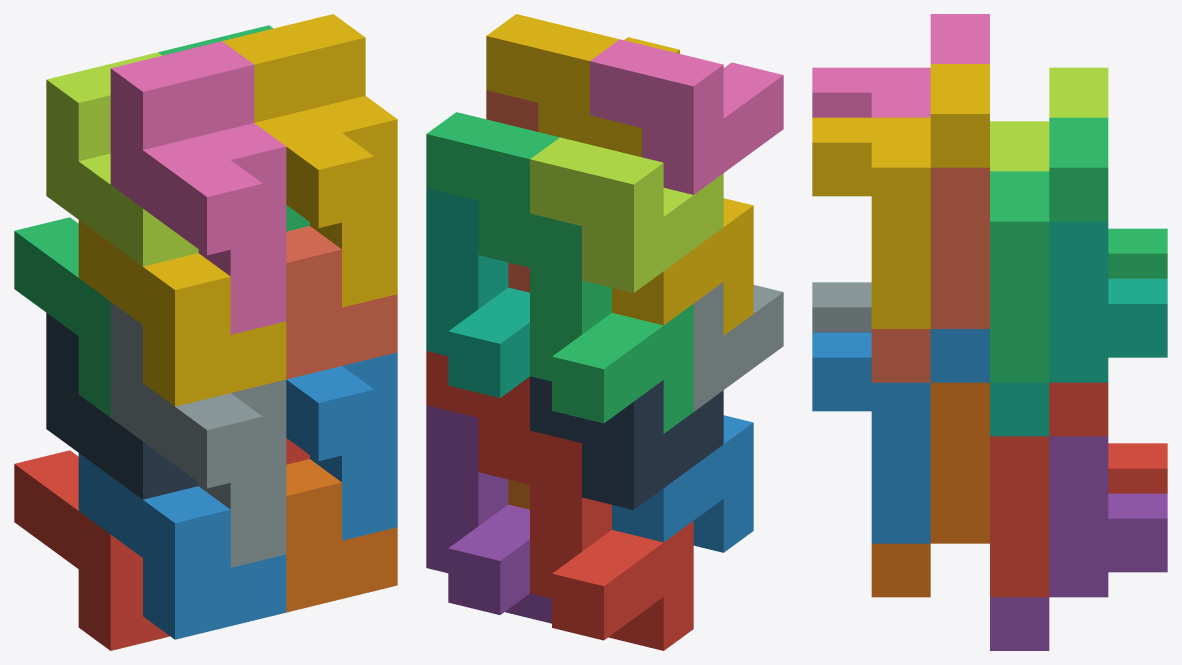
File: tiling.obj
3 views of the same model, side by side, from view 1: azimuth 30°, elevation 25°; view 2: azimuth 150°, elevation 25°; view 3: azimuth 270°, elevation 25° (orthographic). The views are drawn at different scales.
Visible parts, largest first — view 1: copy_2_domain_4, copy_2_domain_8, copy_2_domain_2, copy_1_domain_4, copy_1_domain_2, copy_2_domain_6, copy_2_domain_3, copy_1_domain_1, copy_1_domain_6, copy_1_domain_8, copy_1_domain_3, copy_2_domain_1 (+1 smaller); view 2: copy_1_domain_1, copy_1_domain_3, copy_2_domain_4, copy_2_domain_3, copy_1_domain_5, copy_1_domain_7, copy_2_domain_1, copy_2_domain_7, copy_2_domain_8, copy_1_domain_4, copy_1_domain_2, copy_2_domain_2 (+3 smaller); view 3: copy_2_domain_8, copy_2_domain_7, copy_1_domain_7, copy_2_domain_6, copy_1_domain_5, copy_1_domain_6, copy_2_domain_5, copy_1_domain_8, copy_2_domain_4, copy_2_domain_3, copy_1_domain_1, copy_1_domain_3 (+1 smaller).
Part boxes in pixels (bbox=[...]): copy_2_domain_4: bbox=[110, 41, 286, 334]; copy_2_domain_8: bbox=[222, 14, 397, 307]; copy_2_domain_2: bbox=[110, 301, 286, 567]; copy_1_domain_4: bbox=[78, 220, 286, 406]; copy_1_domain_2: bbox=[78, 453, 286, 639]; copy_2_domain_6: bbox=[286, 352, 397, 540]; copy_2_domain_3: bbox=[46, 52, 198, 266]; copy_1_domain_1: bbox=[14, 450, 169, 650]; copy_1_domain_6: bbox=[286, 459, 397, 612]; copy_1_domain_8: bbox=[286, 226, 397, 379]; copy_1_domain_3: bbox=[14, 217, 110, 417]; copy_2_domain_1: bbox=[46, 313, 198, 499]; copy_1_domain_1: bbox=[530, 430, 693, 650]; copy_1_domain_3: bbox=[530, 213, 693, 433]; copy_2_domain_4: bbox=[590, 39, 783, 194]; copy_2_domain_3: bbox=[530, 137, 723, 292]; copy_1_domain_5: bbox=[426, 405, 551, 623]; copy_1_domain_7: bbox=[426, 188, 529, 397]; copy_2_domain_1: bbox=[530, 376, 723, 509]; copy_2_domain_7: bbox=[426, 112, 559, 267]; copy_2_domain_8: bbox=[486, 14, 679, 144]; copy_1_domain_4: bbox=[590, 115, 753, 335]; copy_1_domain_2: bbox=[612, 415, 753, 552]; copy_2_domain_2: bbox=[693, 282, 783, 411]; copy_2_domain_8: bbox=[812, 64, 989, 328]; copy_2_domain_7: bbox=[990, 117, 1108, 382]; copy_1_domain_7: bbox=[990, 221, 1167, 436]; copy_2_domain_6: bbox=[812, 329, 989, 543]; copy_1_domain_5: bbox=[990, 436, 1167, 650]; copy_1_domain_6: bbox=[871, 382, 989, 597]; copy_2_domain_5: bbox=[990, 382, 1108, 597]; copy_1_domain_8: bbox=[871, 167, 989, 382]; copy_2_domain_4: bbox=[812, 14, 989, 117]; copy_2_domain_3: bbox=[990, 67, 1108, 171]; copy_1_domain_1: bbox=[1108, 443, 1167, 493]; copy_1_domain_3: bbox=[1108, 228, 1167, 278].
Bounding box in the file's own units: 4 × 10 × 6.
